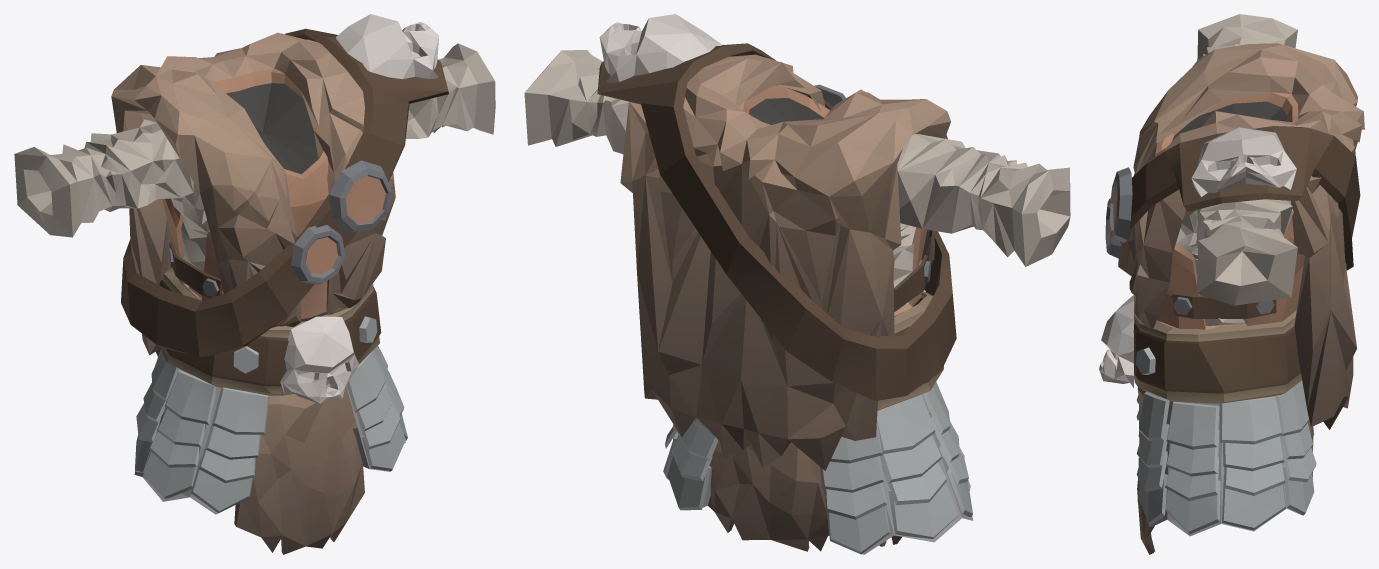
File: armorFrostArmorDisplay.fbx
3 renders of one model, left to right at view 1: azimuth 30°, elevation 25°; view 2: azimuth 150°, elevation 25°; view 3: azimuth 270°, elevation 25°, orthographic. The views are drawn at different scales.
Parts seen in each view (by area): view 1: armorFrostArmorDisplay; view 2: armorFrostArmorDisplay; view 3: armorFrostArmorDisplay.
Part boxes in pixels (<box>): armorFrostArmorDisplay: <box>14,14,495,554</box>; armorFrostArmorDisplay: <box>524,14,1070,554</box>; armorFrostArmorDisplay: <box>1099,14,1364,554</box>.
Bounding box in the file's own units: 1.84 × 1.84 × 0.9359.
